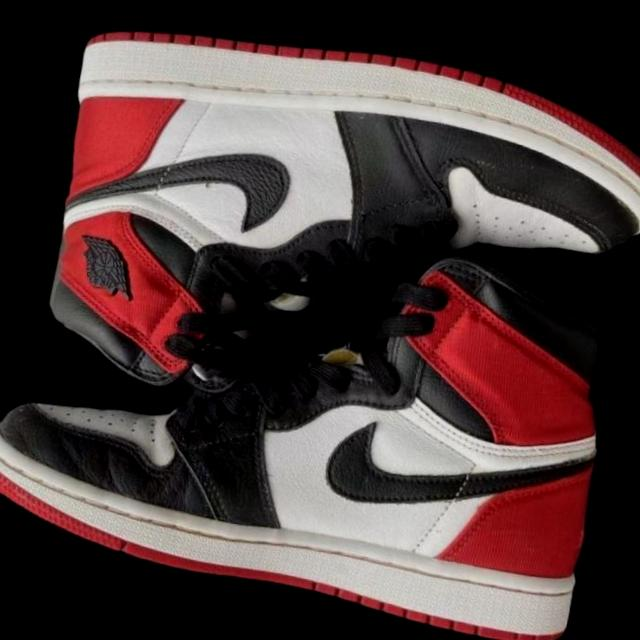nike_original_jordan: (0, 161, 640, 640), (9, 0, 640, 485)
